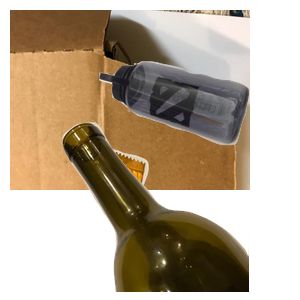cardboard: (10, 10, 250, 190)
glass: (60, 120, 300, 300)
plastic: (97, 59, 300, 197)
trash: (103, 147, 300, 300)
